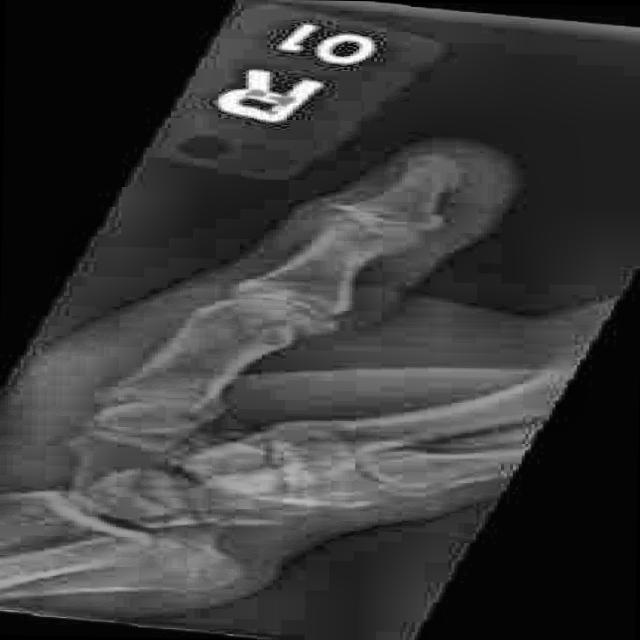fingers positive: (290, 203, 451, 268)
